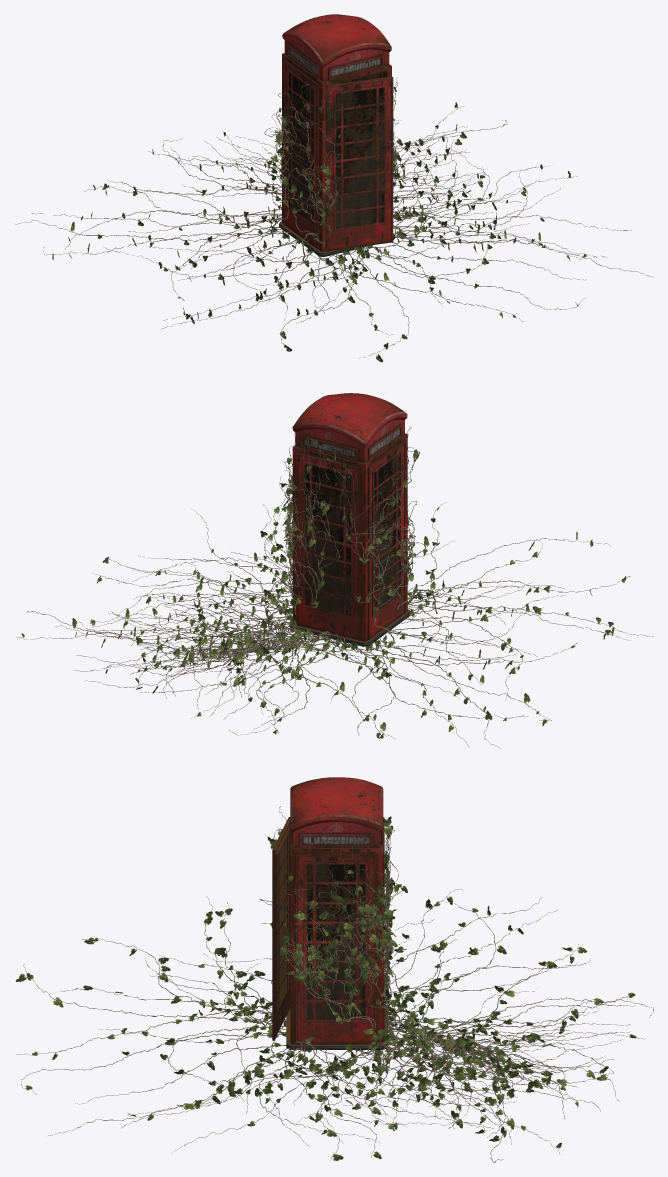
Rendered from phone_booth.glb.
The picture shows the model from 3 angles, top to bottom: view 1: azimuth 30°, elevation 25°; view 2: azimuth 150°, elevation 25°; view 3: azimuth 270°, elevation 25°; orthographic projection. The views are drawn at different scales.
Visible parts, largest first — view 1: Phone_PhoneBooth_0, Ivy_Branches_0, Ivy_Leaves_0; view 2: Phone_PhoneBooth_0, Ivy_Branches_0, Ivy_Leaves_0; view 3: Phone_PhoneBooth_0, Ivy_Branches_0, Ivy_Leaves_0.
Boxes of the visible parts, box(x1,y1,x2,y2) form: Phone_PhoneBooth_0: box(279, 14, 394, 256); Ivy_Branches_0: box(14, 77, 653, 358); Ivy_Leaves_0: box(52, 80, 587, 362); Phone_PhoneBooth_0: box(289, 393, 410, 646); Ivy_Branches_0: box(16, 426, 653, 748); Ivy_Leaves_0: box(21, 437, 626, 738); Phone_PhoneBooth_0: box(272, 777, 387, 1049); Ivy_Branches_0: box(16, 806, 653, 1162); Ivy_Leaves_0: box(16, 816, 636, 1160).
Size of the model in its own units: 6.1 by 2.58 by 6.09.
Materials: 4 (4 with a texture image).
